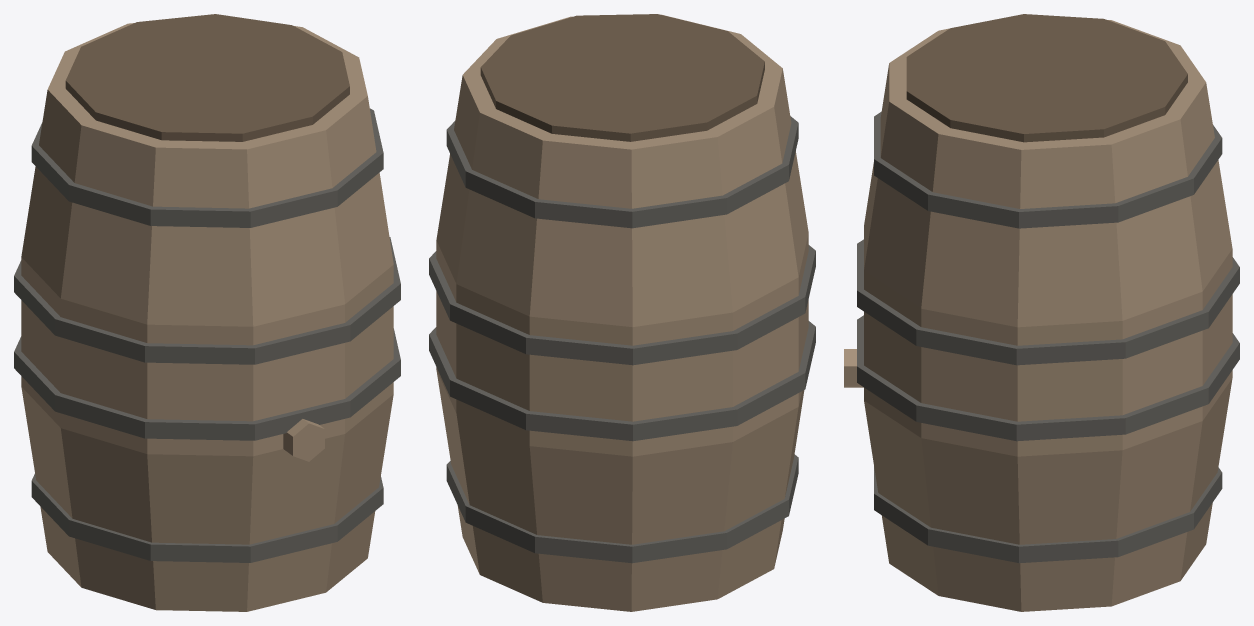
The model's file is barrel_2.glb.
The picture shows the model from 3 angles, left to right: view 1: azimuth 30°, elevation 25°; view 2: azimuth 150°, elevation 25°; view 3: azimuth 270°, elevation 25°; orthographic projection.
Parts seen in each view (by area): view 1: Barrel_2; view 2: Barrel_2; view 3: Barrel_2.
Boxes of the visible parts, x1,y1,x2,y2 form: Barrel_2: (14,14,400,611); Barrel_2: (429,14,815,611); Barrel_2: (844,14,1239,611).
Bounding box in the file's own units: 0.6374 × 0.855 × 0.652.
